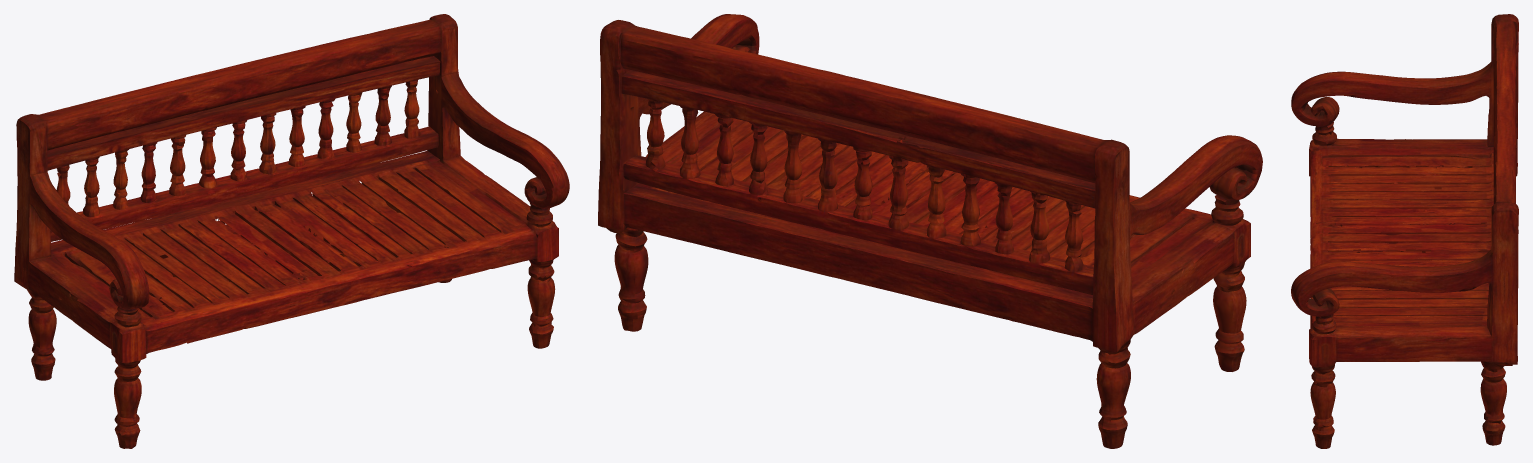
The model's file is w3bench.glb.
3 views of the same model, side by side, from view 1: azimuth 30°, elevation 25°; view 2: azimuth 150°, elevation 25°; view 3: azimuth 270°, elevation 25° (orthographic). The views are drawn at different scales.
Visible parts, largest first — view 1: output; view 2: output; view 3: output.
Boxes of the visible parts, x1,y1,x2,y2 form: output: [14, 14, 569, 448]; output: [598, 14, 1262, 448]; output: [1291, 14, 1518, 448].
Size of the model in its own units: 1.5 by 0.8327 by 0.7127.
Materials: 1 (1 with a texture image).
